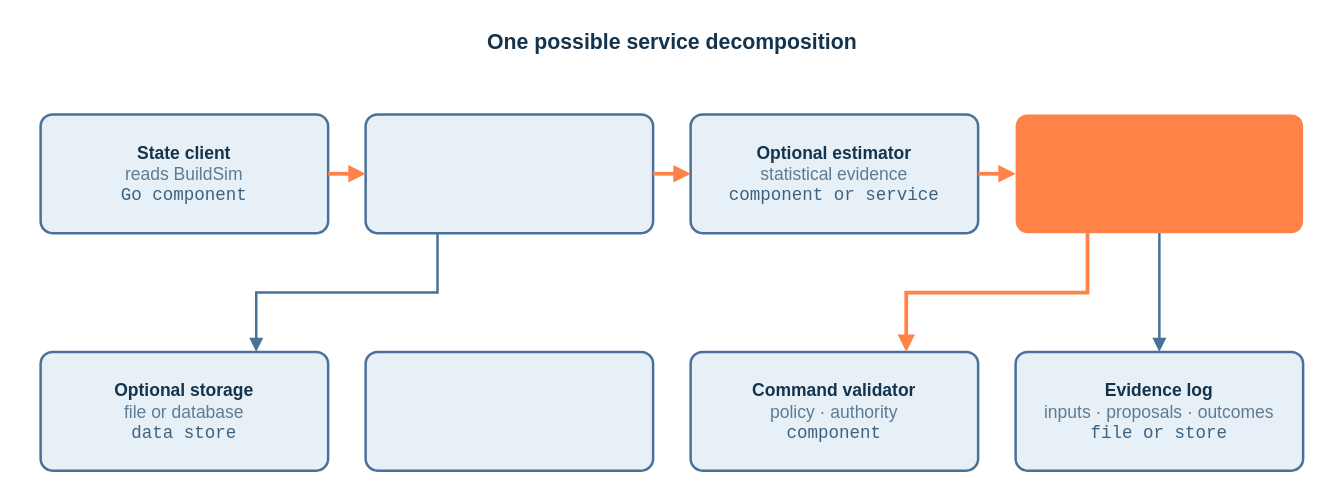
This 1343x493 diagram has some shape labels left out. Here are the shapes that lost their labels. From the top down, the centre of each, then its label:
At point (509, 173): "Observation validation schema · units · freshness component".
At point (1158, 173): "Controller baseline · policy Go component".
At point (509, 410): "BuildSim viewer state visualisation application".
